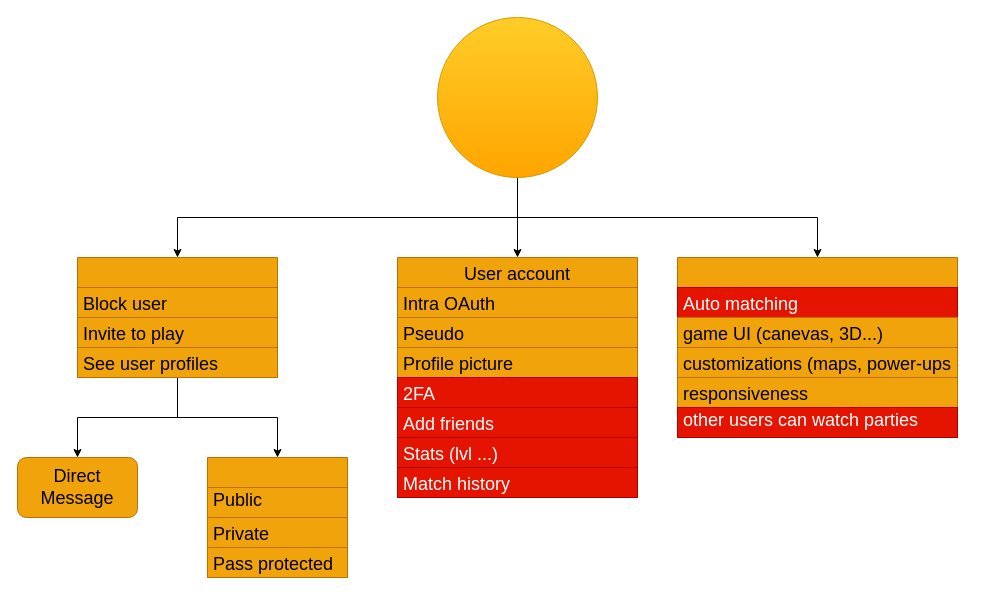
The diagram is 994 pixels wide and 595 high, and some of its shapes have lost their labels. The shapes that lost their labels are listed below. From the top down, each one's box as (x1, y1, x2, y2) in pixels, then its label:
(436, 16, 598, 178): Transcendence
(76, 256, 278, 378): Chat interface
(676, 256, 958, 438): UI
(206, 456, 348, 578): Channels
